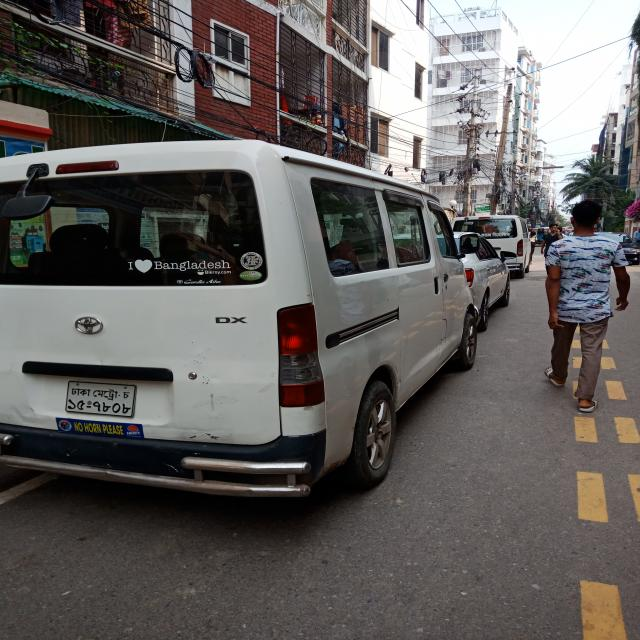car: (441, 232, 518, 316)
microbus: (0, 108, 481, 531), (487, 202, 561, 268)
